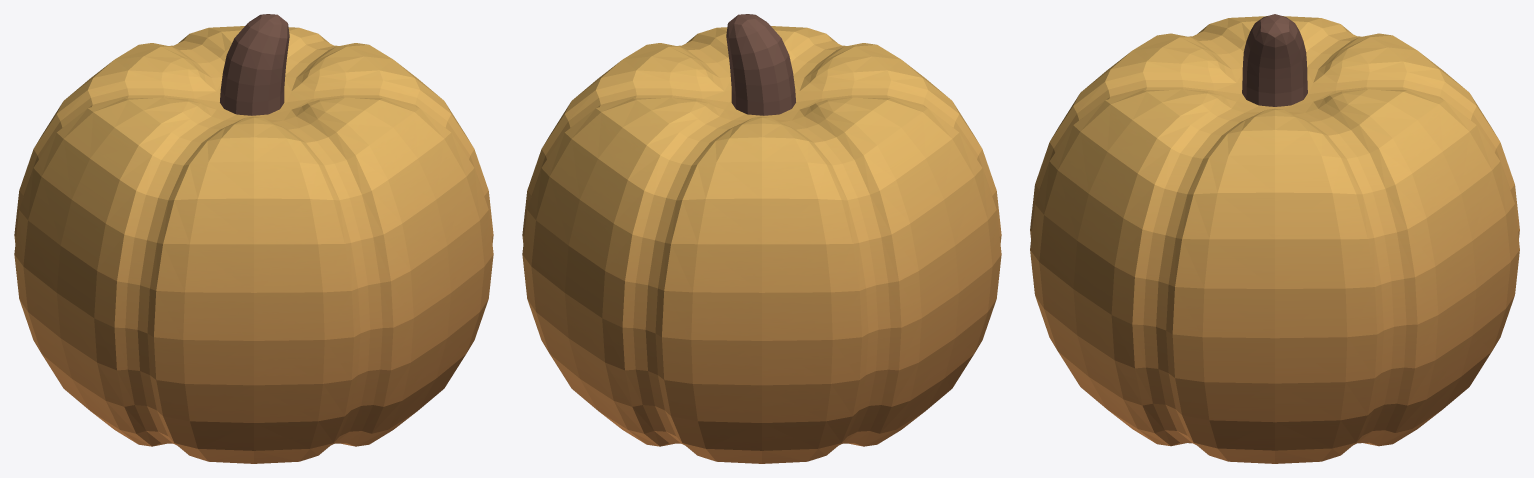
File: Kürbis_lil.fbx
The picture shows the model from 3 angles, left to right: view 1: azimuth 30°, elevation 25°; view 2: azimuth 150°, elevation 25°; view 3: azimuth 270°, elevation 25°; orthographic projection. The views are drawn at different scales.
Parts seen in each view (by area): view 1: Kürbis_klein; view 2: Kürbis_klein; view 3: Kürbis_klein.
Boxes of the visible parts, bbox=[...] form: Kürbis_klein: bbox=[14, 14, 493, 463]; Kürbis_klein: bbox=[522, 14, 1001, 463]; Kürbis_klein: bbox=[1030, 14, 1519, 463].
Size of the model in its own units: 20.92 by 19.57 by 22.02.
